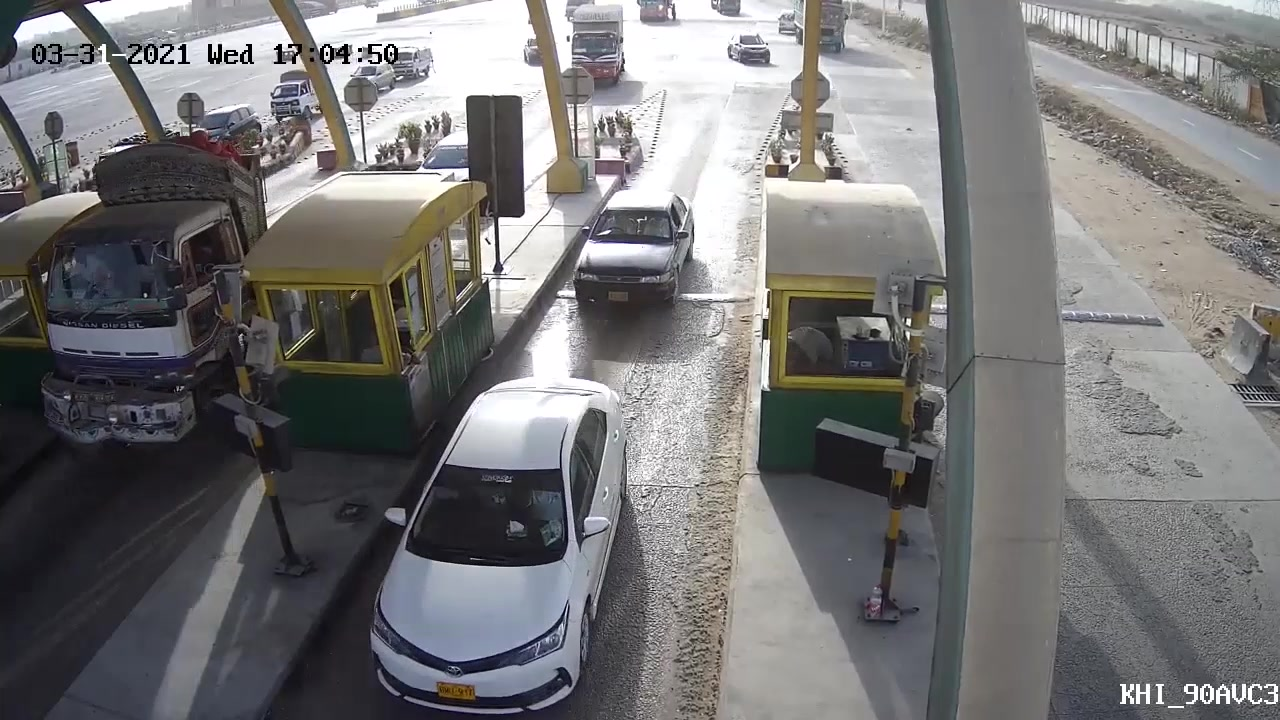F1: (352, 372, 638, 713), (565, 183, 696, 322)
